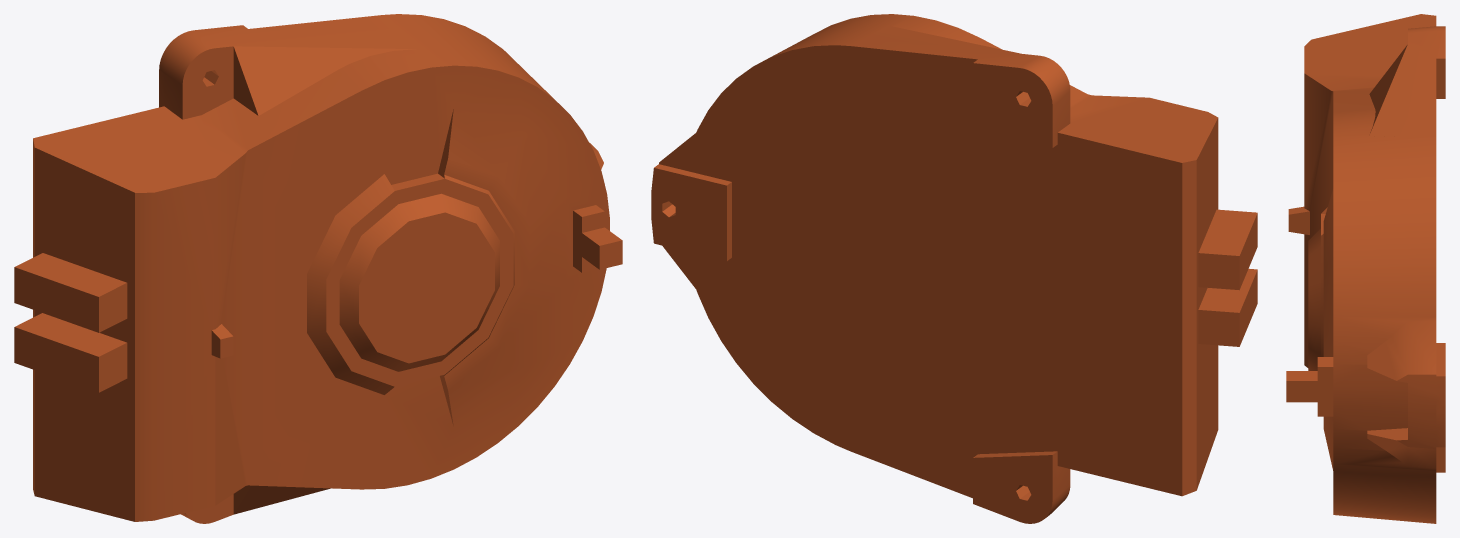
3 views of the same model, side by side, from view 1: azimuth 30°, elevation 25°; view 2: azimuth 150°, elevation 25°; view 3: azimuth 270°, elevation 25° (orthographic). The views are drawn at different scales.
Visible parts, largest first — view 1: Base_Link; view 2: Base_Link; view 3: Base_Link.
Boxes of the visible parts, x1,y1,x2,y2 form: Base_Link: (14, 14, 622, 523); Base_Link: (651, 14, 1257, 523); Base_Link: (1286, 14, 1445, 523).
Size of the model in its own units: 0.7788 by 0.5999 by 0.203.
